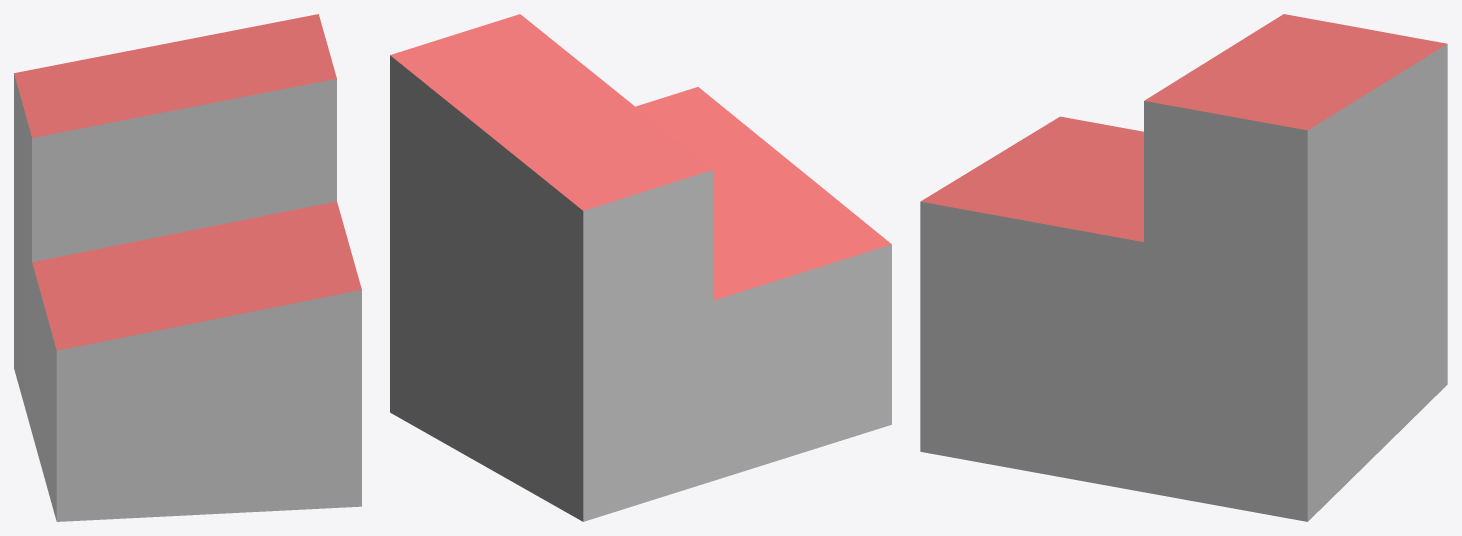
File: DEBY_LOD2_4908053.gltf
3 renders of one model, left to right at view 1: azimuth 30°, elevation 25°; view 2: azimuth 150°, elevation 25°; view 3: azimuth 270°, elevation 25°, orthographic. The views are drawn at different scales.
Parts seen in each view (by area): view 1: Z_UP; view 2: Z_UP; view 3: Z_UP.
Part boxes in pixels (box(x1,y1,x2,y2)): Z_UP: box(14, 14, 361, 521); Z_UP: box(390, 14, 891, 521); Z_UP: box(920, 14, 1447, 521).
Size of the model in its own units: 7.67 by 6.73 by 8.22.
